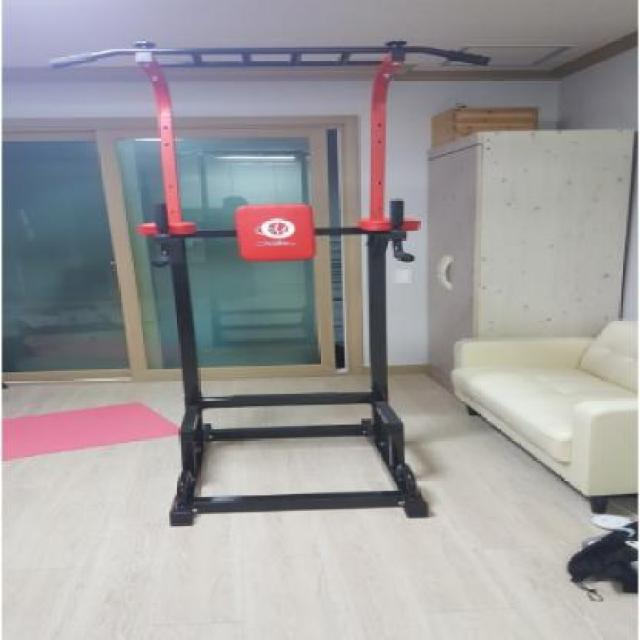chinning dipping: (51, 39, 491, 526)
